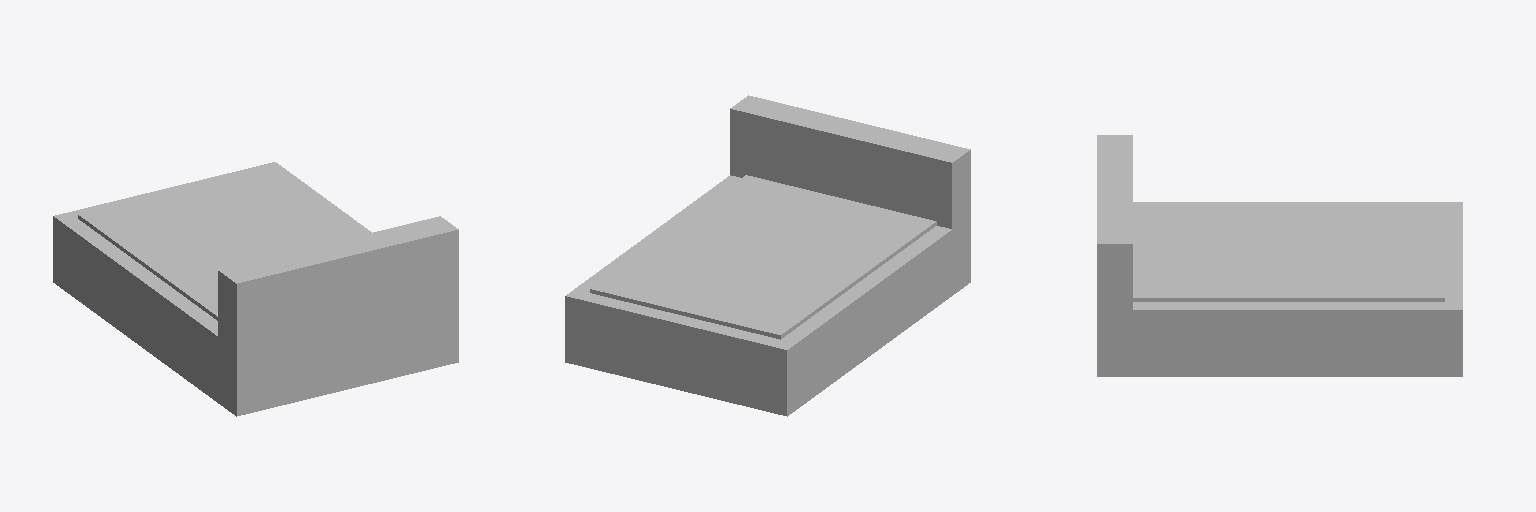
Rendered from bed_double.obj.
3 renders of one model, left to right at view 1: azimuth 30°, elevation 25°; view 2: azimuth 150°, elevation 25°; view 3: azimuth 270°, elevation 25°, orthographic.
Visible parts, largest first — view 1: Plane; view 2: Plane; view 3: Plane.
Part boxes in pixels (x1,y1,x2,y2): Plane: (53, 162, 458, 416); Plane: (565, 95, 970, 416); Plane: (1097, 135, 1462, 376).
Bounding box in the file's own units: 1.4 × 0.8 × 2.